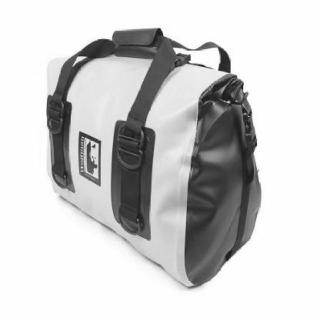other: (34, 37, 214, 289)
